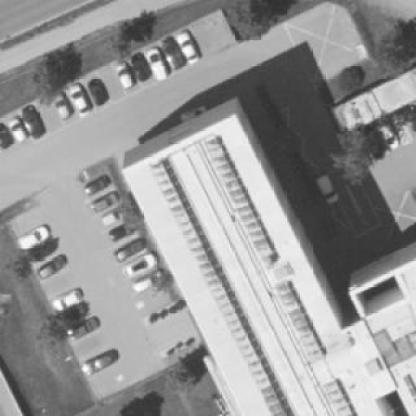solar-pv-panel: (150, 162, 287, 416), (202, 137, 275, 261), (272, 281, 323, 363), (324, 380, 354, 416), (402, 372, 416, 405)
